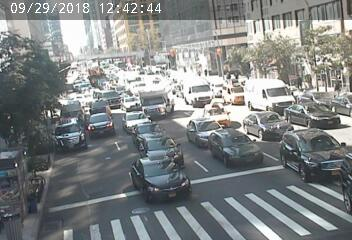car: (281, 130, 340, 178), (136, 157, 195, 192), (249, 84, 293, 113), (217, 139, 261, 166), (289, 105, 336, 128), (141, 89, 176, 118), (256, 109, 291, 137), (183, 82, 218, 107), (189, 119, 227, 140), (141, 140, 180, 159), (89, 94, 119, 118), (51, 124, 79, 147), (205, 105, 236, 124), (91, 117, 120, 137), (221, 80, 242, 105), (60, 101, 85, 119), (131, 125, 162, 139), (125, 115, 152, 129), (119, 95, 138, 108)
